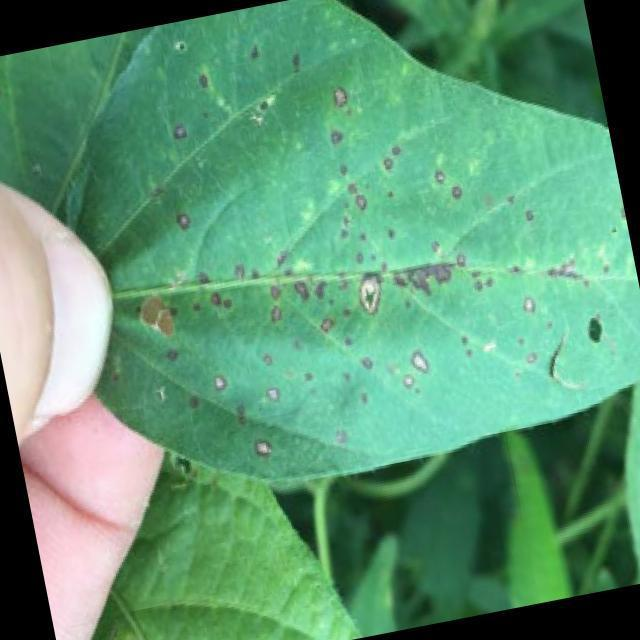Bacterial Spot: (82, 18, 606, 503)
